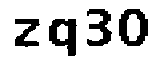0: (116, 8, 151, 50)
3: (85, 6, 114, 48)
q: (47, 16, 80, 60)
z: (10, 16, 42, 50)
